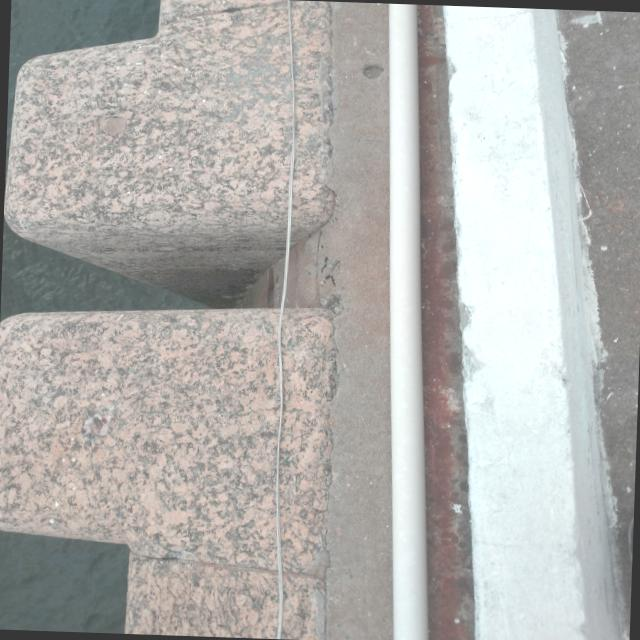gas: (389, 2, 428, 640)
